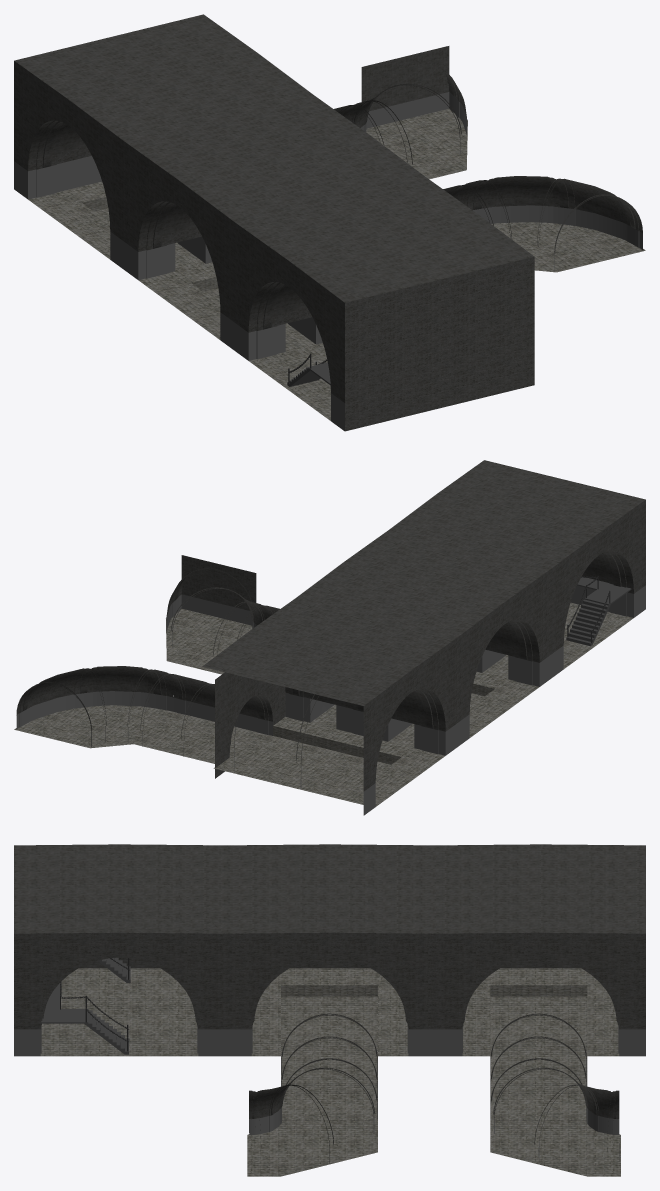
File: Sewer.glb
3 renders of one model, top to bottom at view 1: azimuth 30°, elevation 25°; view 2: azimuth 150°, elevation 25°; view 3: azimuth 270°, elevation 25°, orthographic. The views are drawn at different scales.
Visible parts, largest first — view 1: Walls, StraightStair002; view 2: Walls, StraightStair002; view 3: Walls, StraightStair002.
Boxes of the visible parts, <box> form: Walls: <box>14,14,645,431</box>; StraightStair002: <box>287,362,330,386</box>; Walls: <box>14,460,645,815</box>; StraightStair002: <box>566,577,631,646</box>; Walls: <box>14,844,645,1176</box>; StraightStair002: <box>41,957,130,1054</box>.
Size of the model in its own units: 65.7 by 21.08 by 89.01.
Materials: 5 (2 with a texture image).
